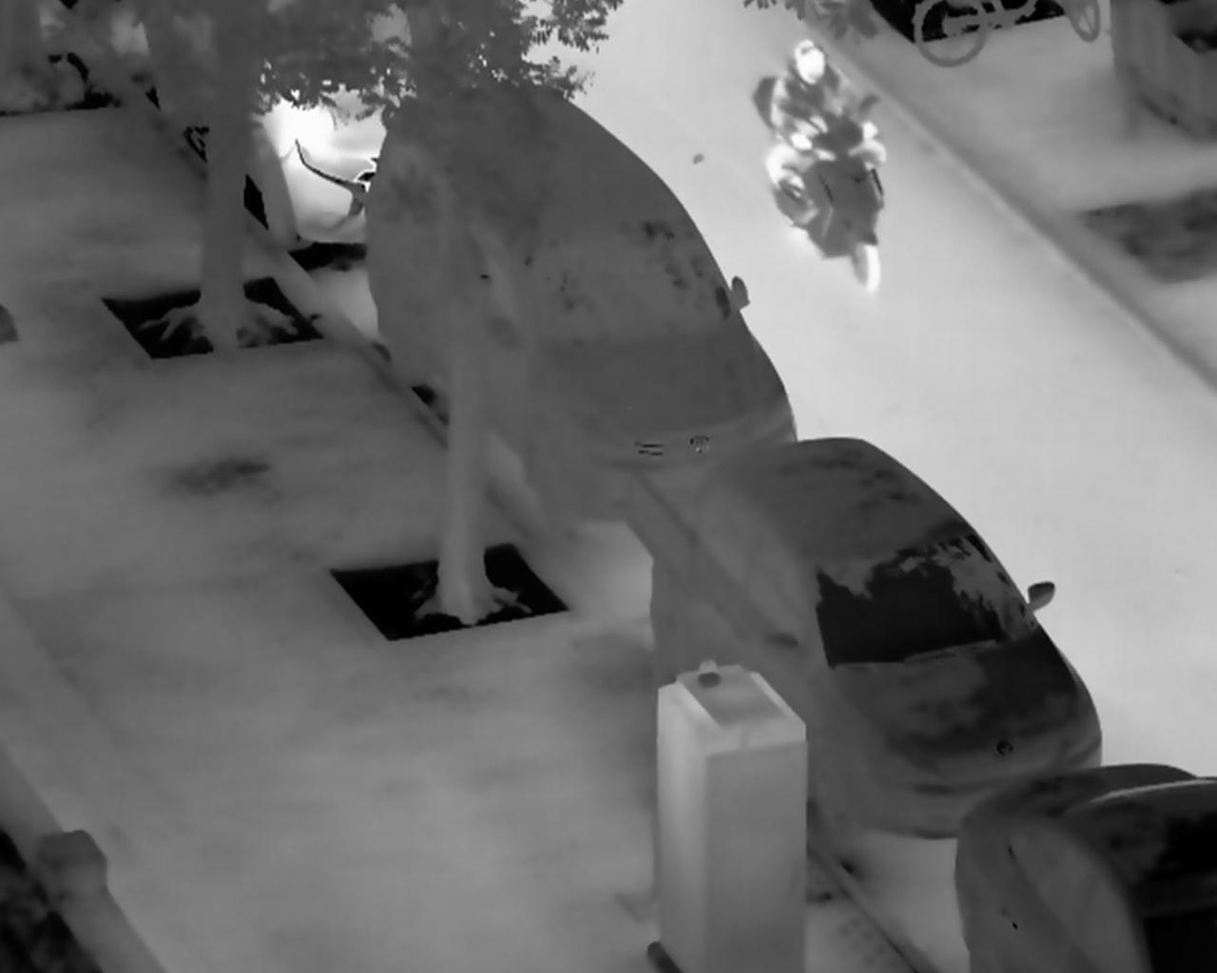person: (767, 38, 885, 225)
